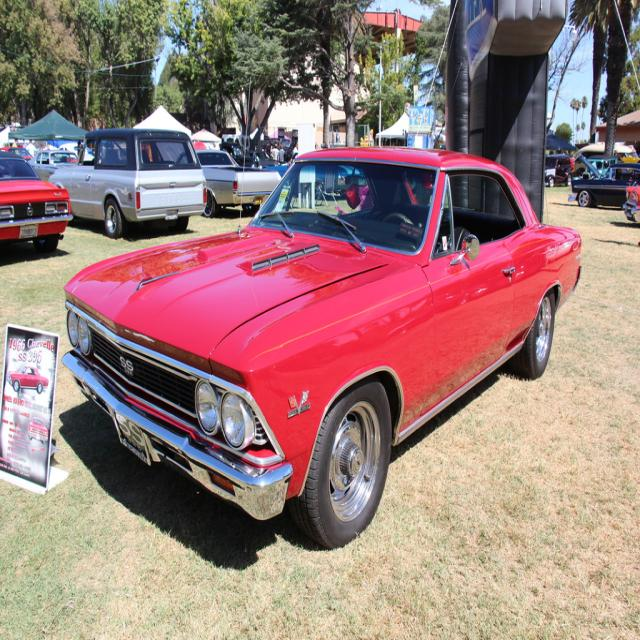car: (52, 154, 582, 546)
